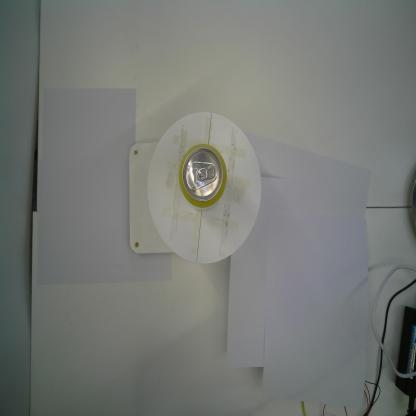Alcohol: (178, 143, 227, 209)
